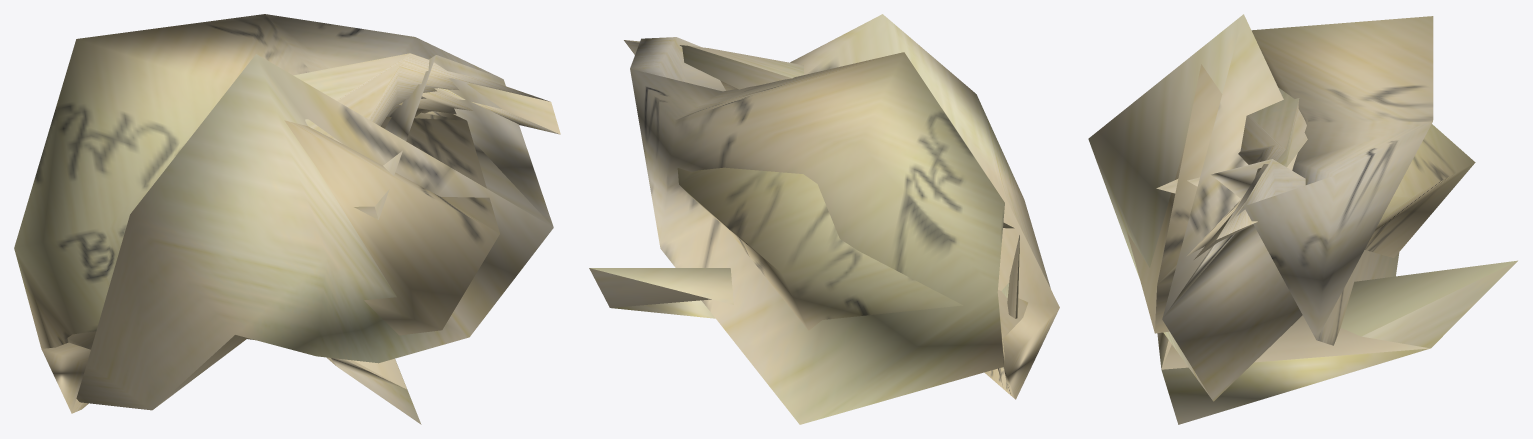
The model's file is CrushedPaperNote.FBX.
The picture shows the model from 3 angles, left to right: view 1: azimuth 30°, elevation 25°; view 2: azimuth 150°, elevation 25°; view 3: azimuth 270°, elevation 25°; orthographic projection. The views are drawn at different scales.
Visible parts, largest first — view 1: CrushedPaper; view 2: CrushedPaper; view 3: CrushedPaper.
Part boxes in pixels (box(x1,y1,x2,y2)): CrushedPaper: box(14, 14, 560, 424); CrushedPaper: box(589, 14, 1059, 424); CrushedPaper: box(1088, 14, 1517, 424).
Bounding box in the file's own units: 0.5888 × 0.4611 × 0.5115.
1 material, 1 textured.
